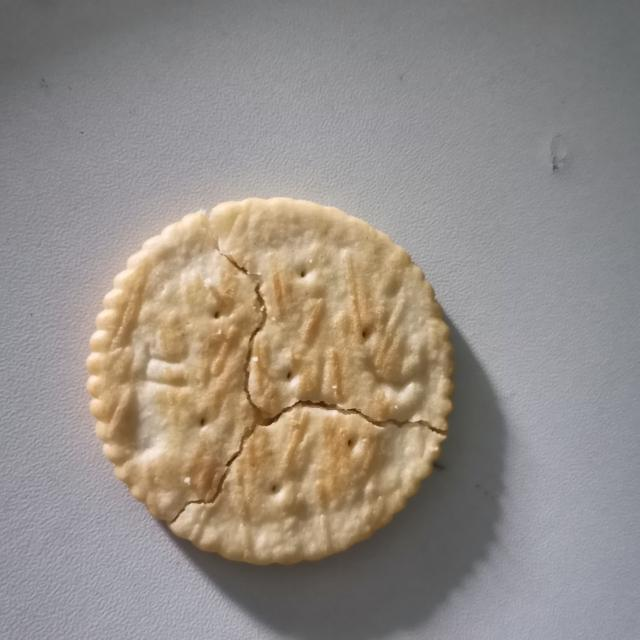Fracture: (156, 213, 455, 546)
